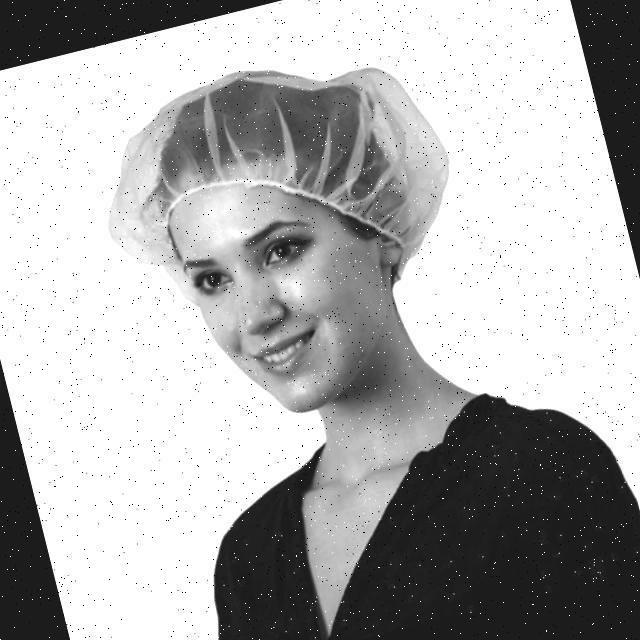no_hairnet: (202, 302, 372, 402)
